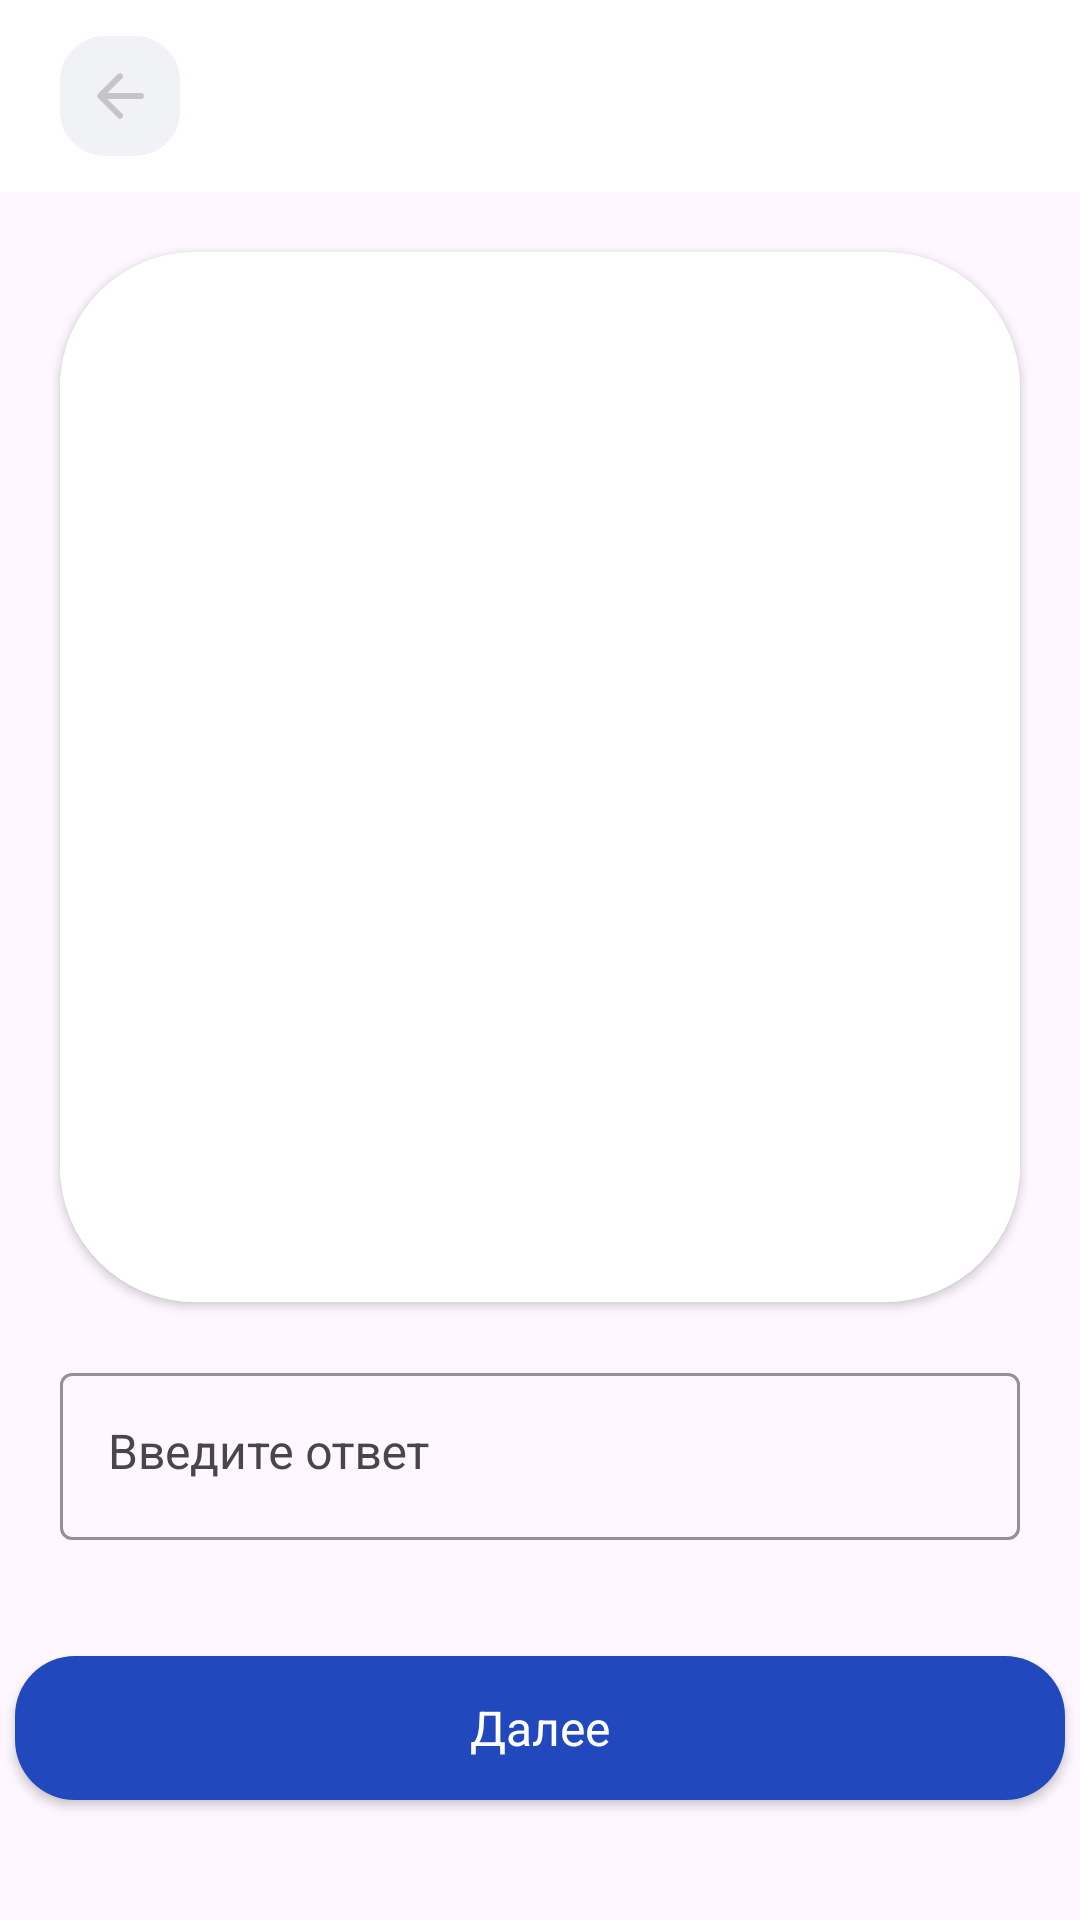

Icons on this 1080×1920 Android screen, each with the point to tap as [x,y]:
arrow back: [120,96]
